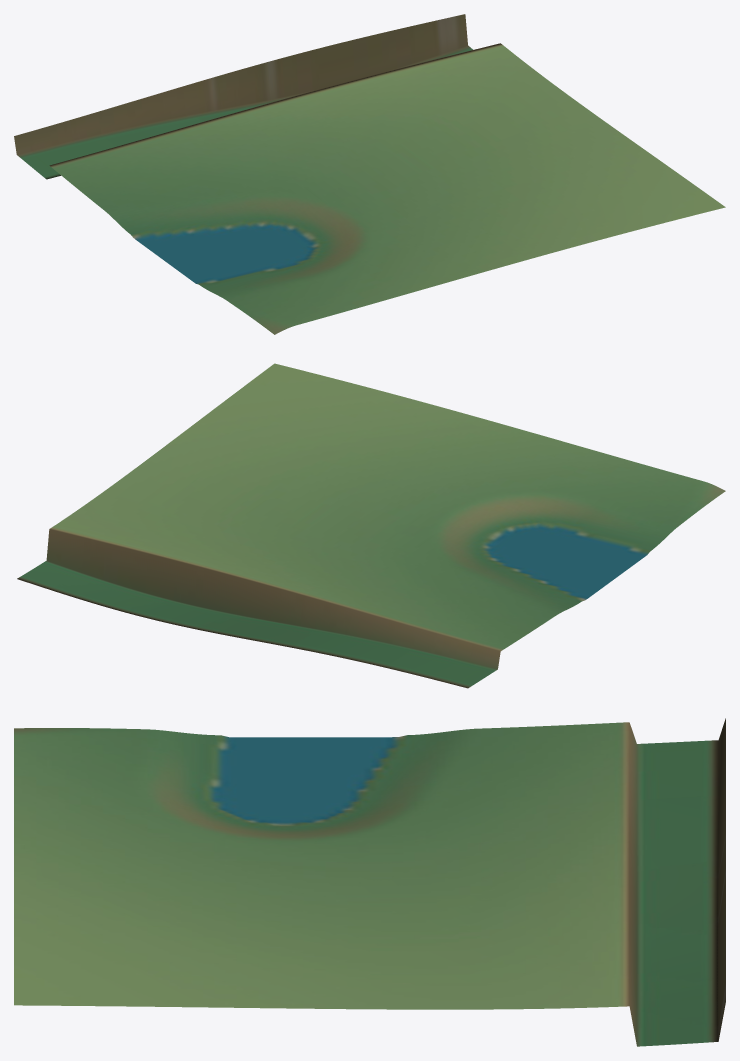
The model's file is terrain_T_E00_S02.glb.
3 renders of one model, top to bottom at view 1: azimuth 30°, elevation 25°; view 2: azimuth 150°, elevation 25°; view 3: azimuth 270°, elevation 25°, orthographic. The views are drawn at different scales.
Visible parts, largest first — view 1: Terrain_T_E00_S02; view 2: Terrain_T_E00_S02; view 3: Terrain_T_E00_S02.
Boxes of the visible parts, box(x1,y1,x2,y2) form: Terrain_T_E00_S02: box(14, 14, 725, 334); Terrain_T_E00_S02: box(17, 363, 725, 688); Terrain_T_E00_S02: box(14, 718, 725, 1046).
Size of the model in its own units: 2000 by 183 by 2000.
1 material, 1 textured.
